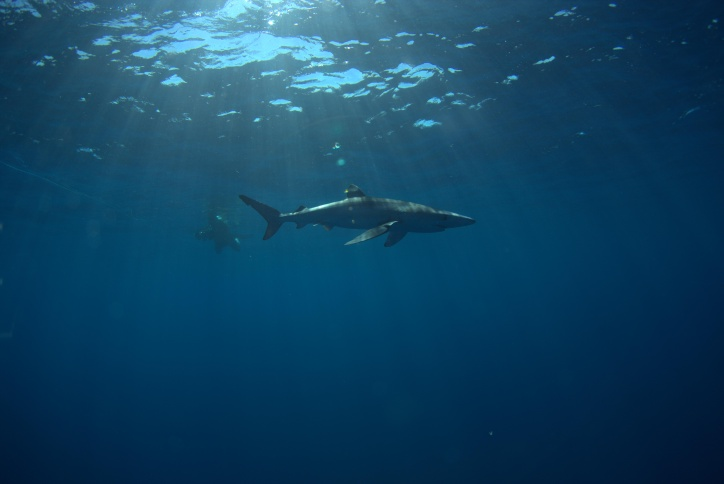Azul: (216, 180, 478, 267)
